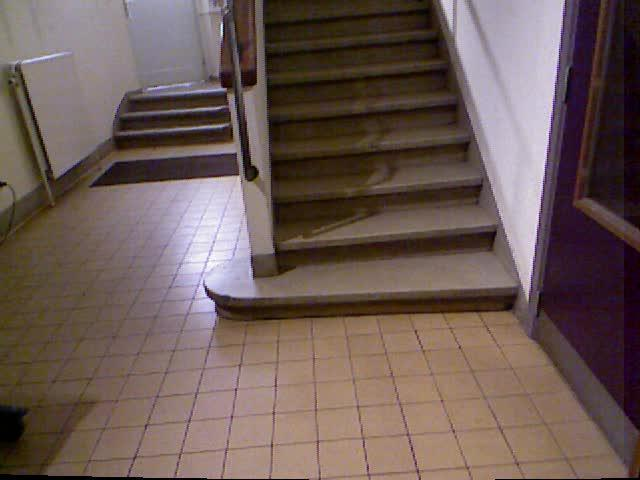Escaleras: (238, 11, 522, 315), (118, 91, 234, 141)
